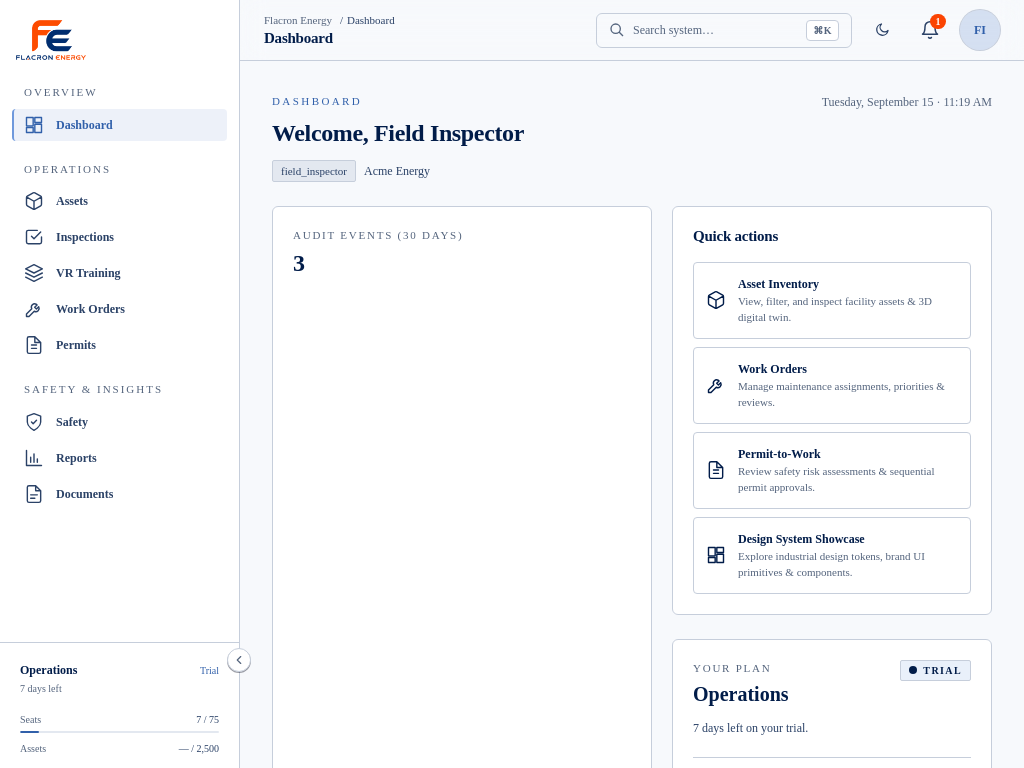
it: app shell › routes on nav click, highlights the active item, and lands on Coming soon
Click the link "Assets".
click(56, 201)  # box [24,191,88,211]
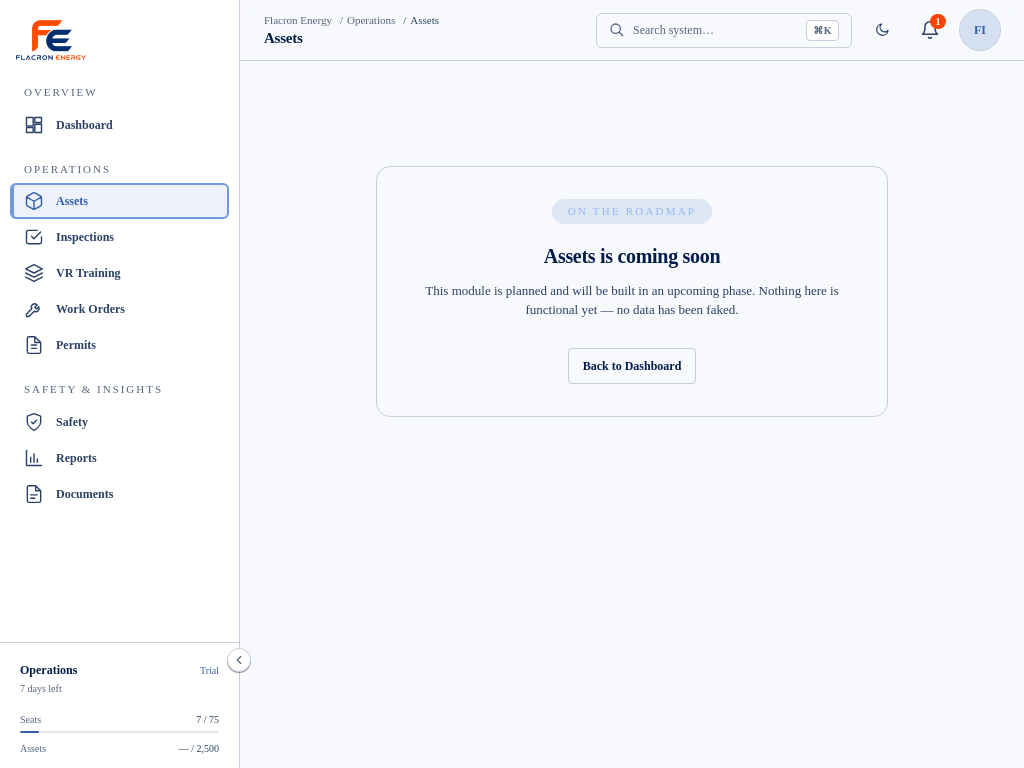
Expected: the heading "Assets is coming soon" is shown, [544,245,720,267]
Expected: the heading "Assets" is shown, [264,30,303,46]
